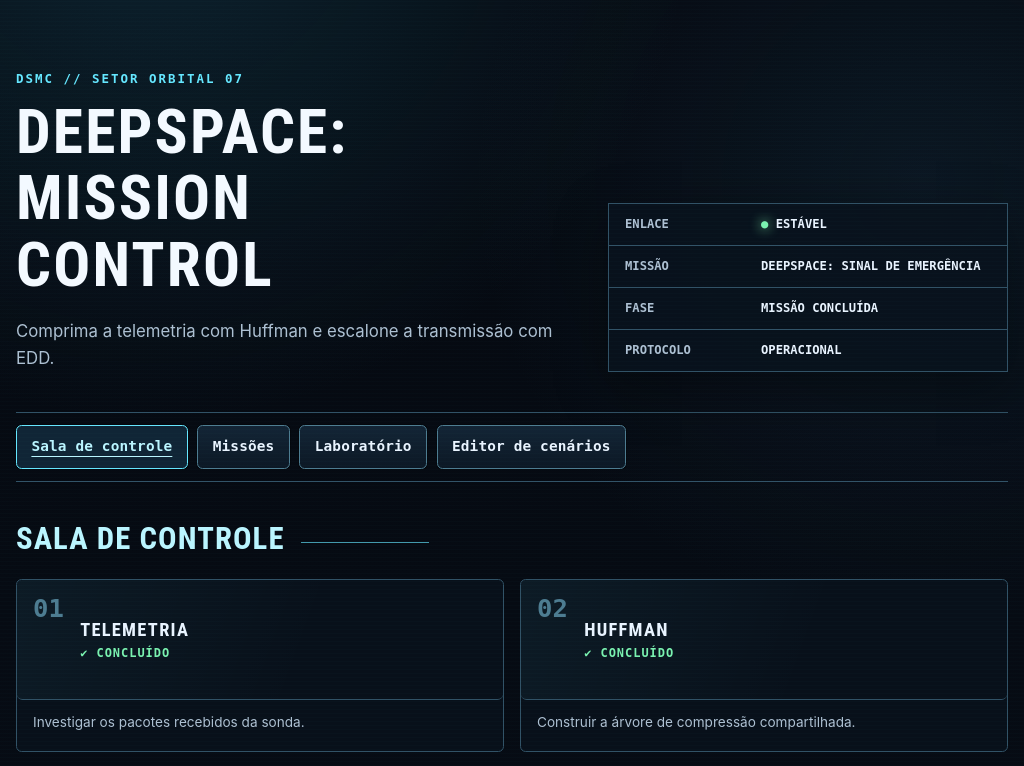
coleção de missões e progressão › jogar novamente recomeça do briefing sem perder as marcas
Check: the text "Missão concluída" is shown, box [761,301,878,315]
Click the button "Missões". click: (244, 447)
box: [197,425,290,469]
(page scrolled)
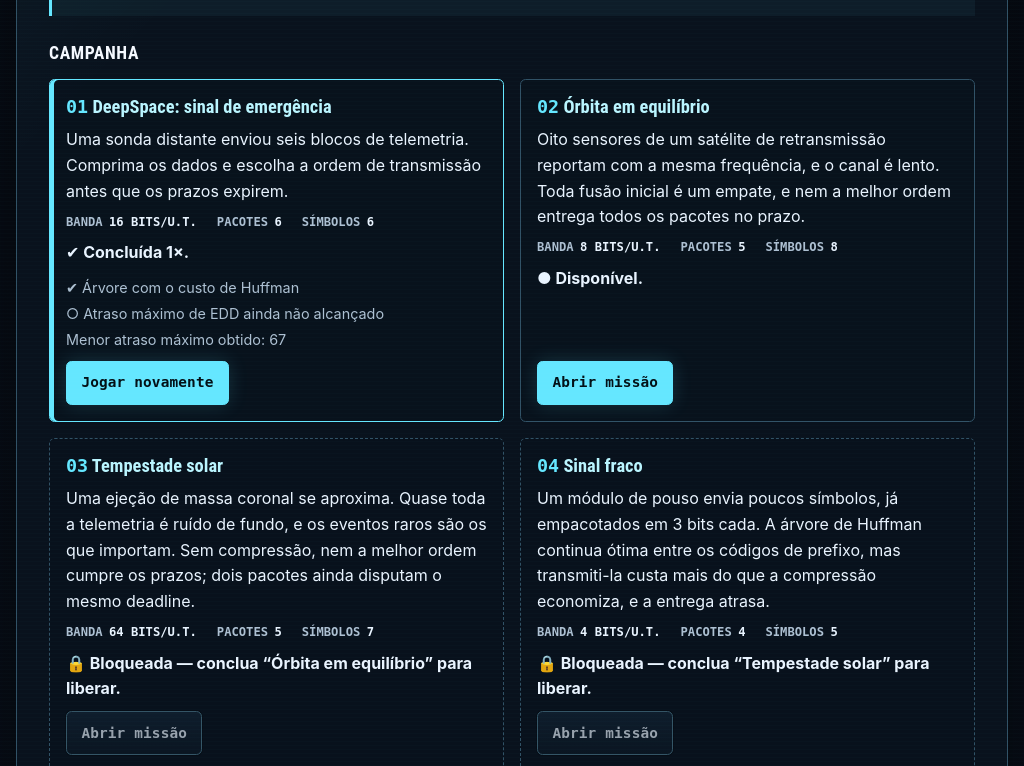
Click the button "Jogar novamente". click: (147, 383)
box: [66,361,229,405]
(page scrolled)
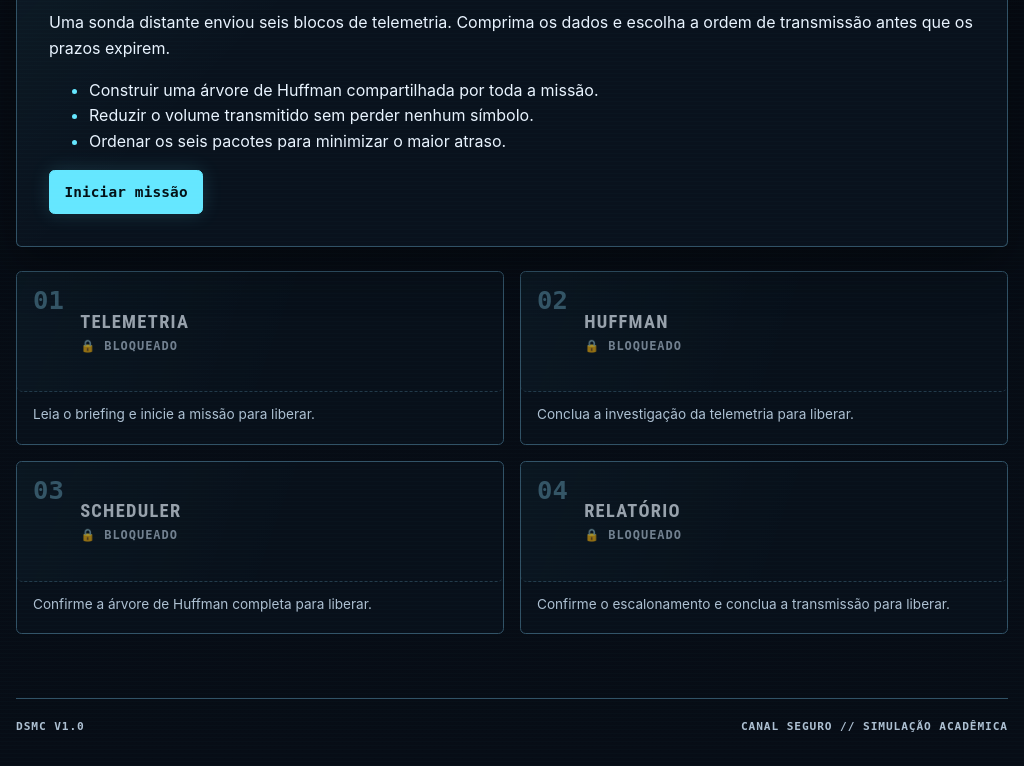
Check: the button "Iniciar missão" is shown, box [49,170,203,214]
